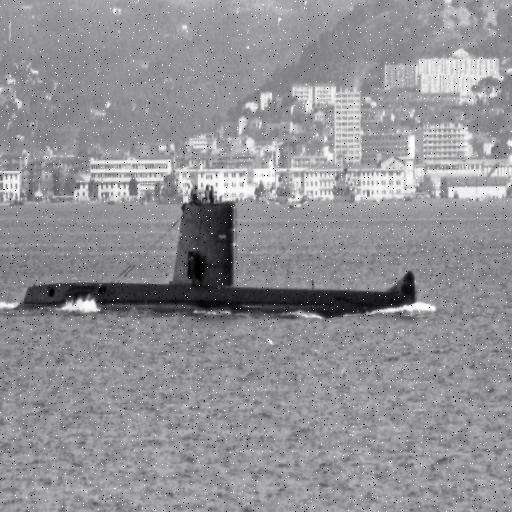submarine: (22, 191, 425, 311)
